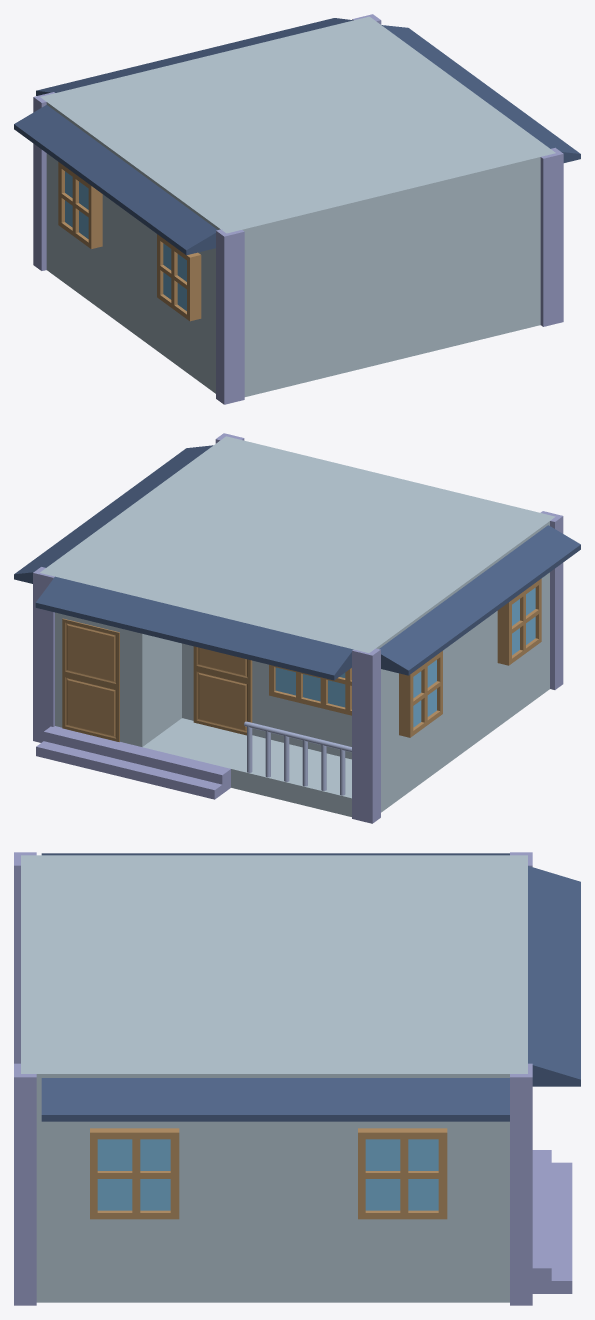
File: Blue Building 1.fbx
3 renders of one model, top to bottom at view 1: azimuth 30°, elevation 25°; view 2: azimuth 150°, elevation 25°; view 3: azimuth 270°, elevation 25°, orthographic. The views are drawn at different scales.
Visible parts, largest first — view 1: Cube.073; view 2: Cube.073; view 3: Cube.073.
Boxes of the visible parts, x1,y1,x2,y2 form: Cube.073: (14,14,580,404); Cube.073: (14,433,580,823); Cube.073: (14,852,580,1305).
Size of the model in its own units: 958 by 390 by 877.
